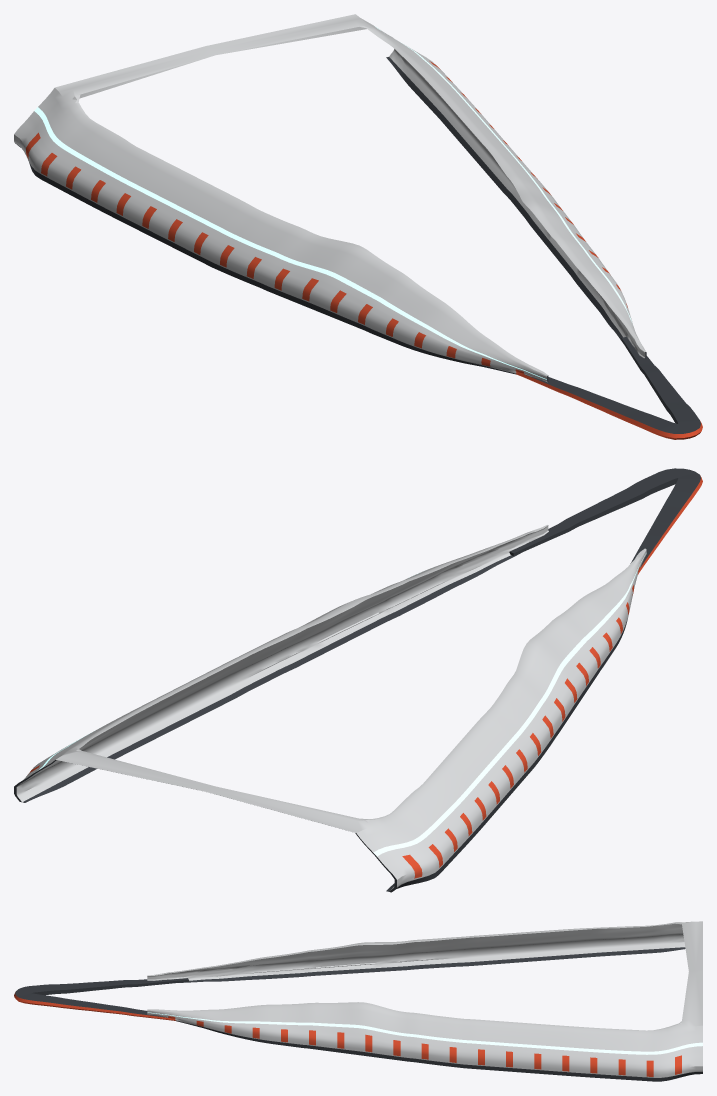
File: vortex_armor_shell.fbx
The picture shows the model from 3 angles, top to bottom: view 1: azimuth 30°, elevation 25°; view 2: azimuth 150°, elevation 25°; view 3: azimuth 270°, elevation 25°; orthographic projection. The views are drawn at different scales.
Parts seen in each view (by area): view 1: Armor_Shell; view 2: Armor_Shell; view 3: Armor_Shell.
Boxes of the visible parts, x1=… form: Armor_Shell: x1=14, y1=14, x2=702, y2=439; Armor_Shell: x1=14, y1=468, x2=702, y2=892; Armor_Shell: x1=14, y1=921, x2=702, y2=1081.
Size of the model in its own units: 186 by 26.47 by 392.
